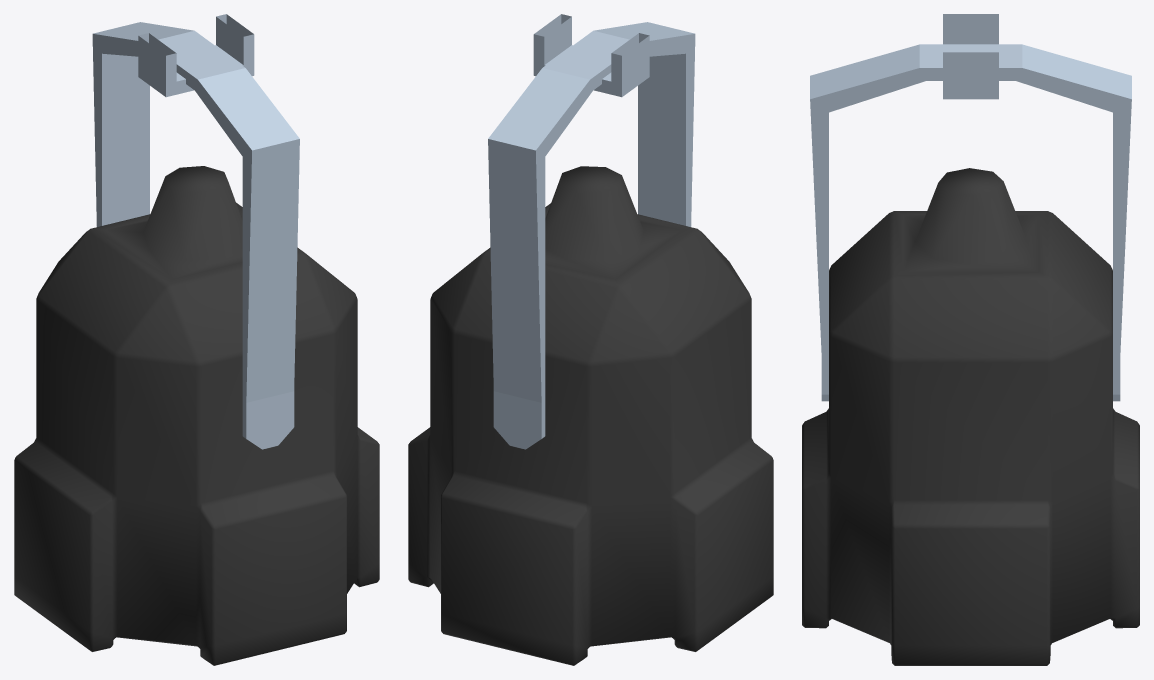
The model's file is lamp.fbx.
The picture shows the model from 3 angles, left to right: view 1: azimuth 30°, elevation 25°; view 2: azimuth 150°, elevation 25°; view 3: azimuth 270°, elevation 25°; orthographic projection.
Visible parts, largest first — view 1: lamp, lamp_base; view 2: lamp, lamp_base; view 3: lamp, lamp_base.
Part boxes in pixels (x1=…): lamp: x1=14, y1=166, x2=379, y2=665; lamp_base: x1=92, y1=14, x2=299, y2=449; lamp: x1=408, y1=166, x2=773, y2=665; lamp_base: x1=488, y1=14, x2=695, y2=449; lamp: x1=802, y1=168, x2=1139, y2=665; lamp_base: x1=810, y1=14, x2=1131, y2=401.
Size of the model in its own units: 0.5955 by 1.09 by 0.5955.
